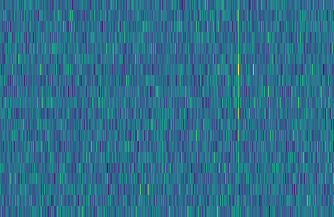signal: (234, 0, 244, 217)
